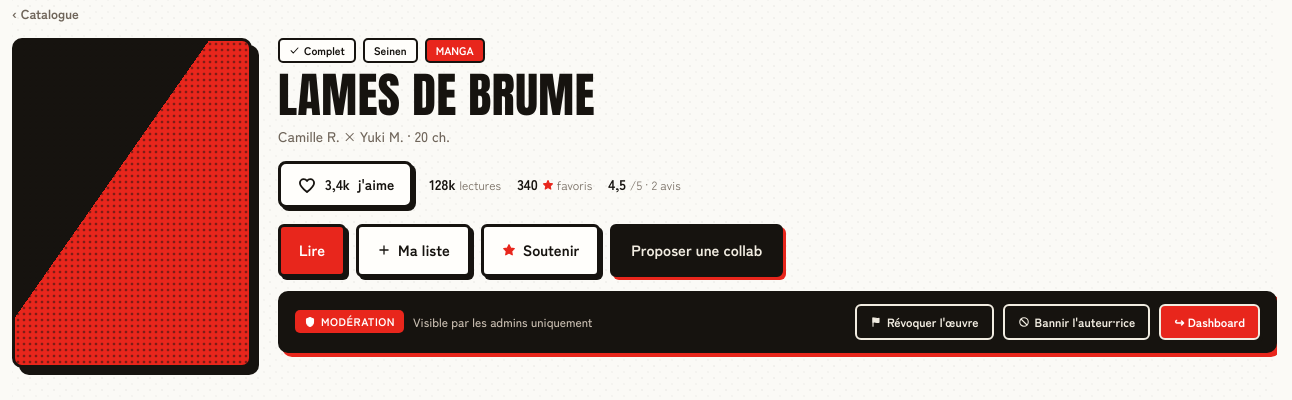
Test case: WorkHero (DR-3 FE-2) › DR-9: a rejected like toggle reverts and shows an inline error
Click the button "3,4k j'aime" at (346, 185), box left=278, top=161, right=413, bottom=208
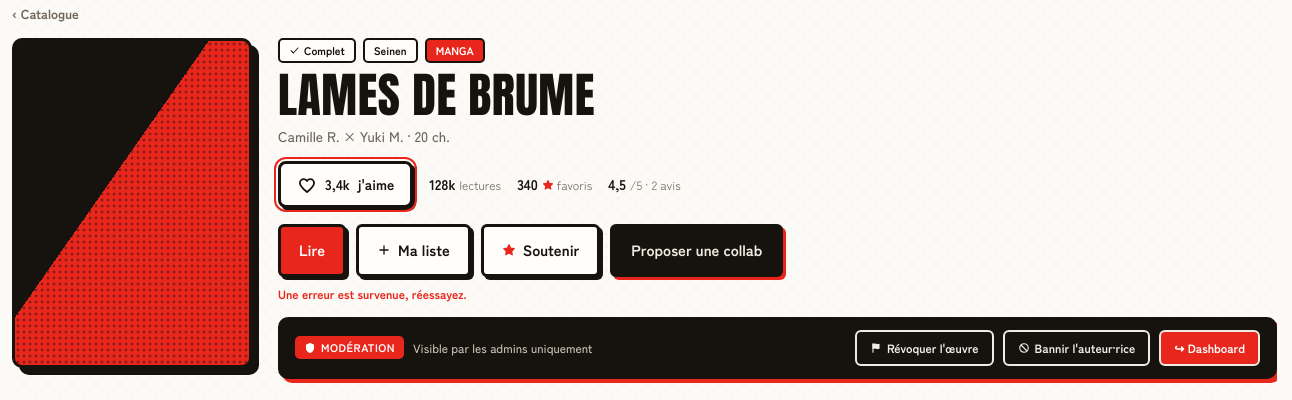
Check: the text "3,4k" is shown, box left=325, top=174, right=350, bottom=195
Check: the message "Une erreur est survenue, réessayez." is shown, box left=278, top=285, right=466, bottom=302
